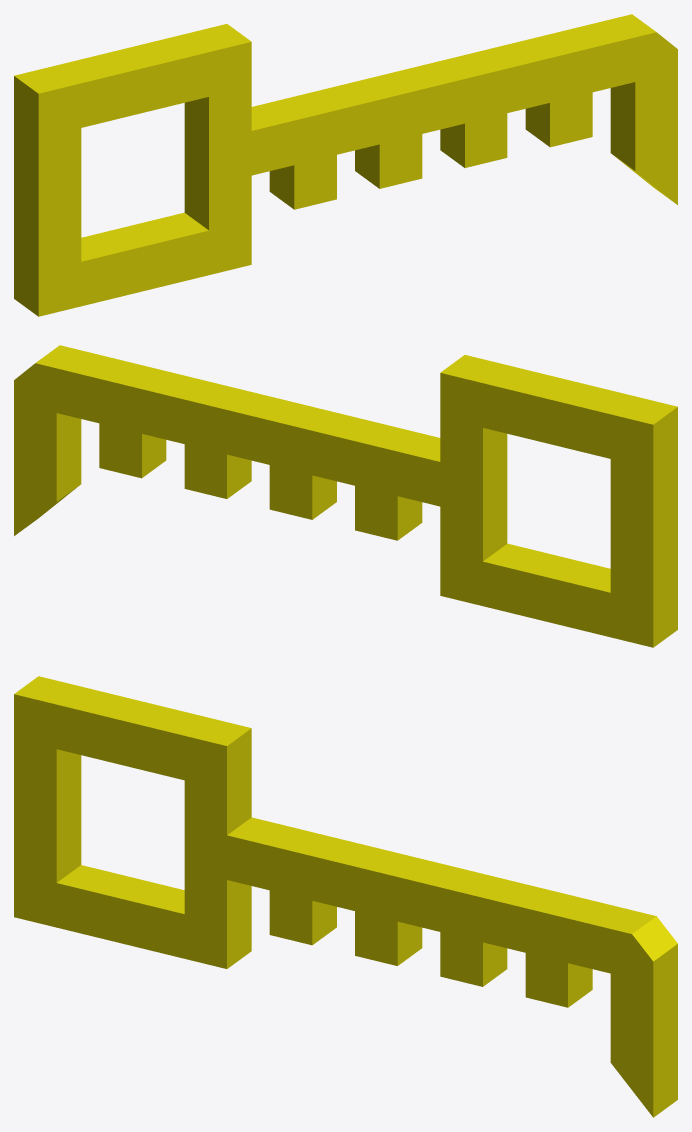
File: Items.fbx_Key_25.fbx
The picture shows the model from 3 angles, top to bottom: view 1: azimuth 30°, elevation 25°; view 2: azimuth 150°, elevation 25°; view 3: azimuth 330°, elevation 25°; orthographic projection.
Parts seen in each view (by area): view 1: Key 25; view 2: Key 25; view 3: Key 25.
Part boxes in pixels (left/top/right/bottom): Key 25: left=14, top=14, right=677, bottom=316; Key 25: left=14, top=345, right=677, bottom=647; Key 25: left=14, top=676, right=677, bottom=1117.
Size of the model in its own units: 30 by 12 by 2.
